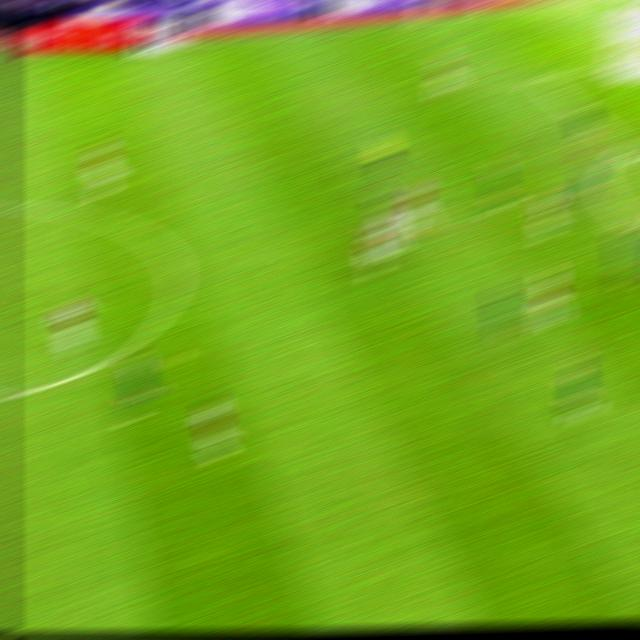bigarea_top_inner: (522, 66, 550, 85)
top_arc_area_intersection: (608, 137, 635, 155)
